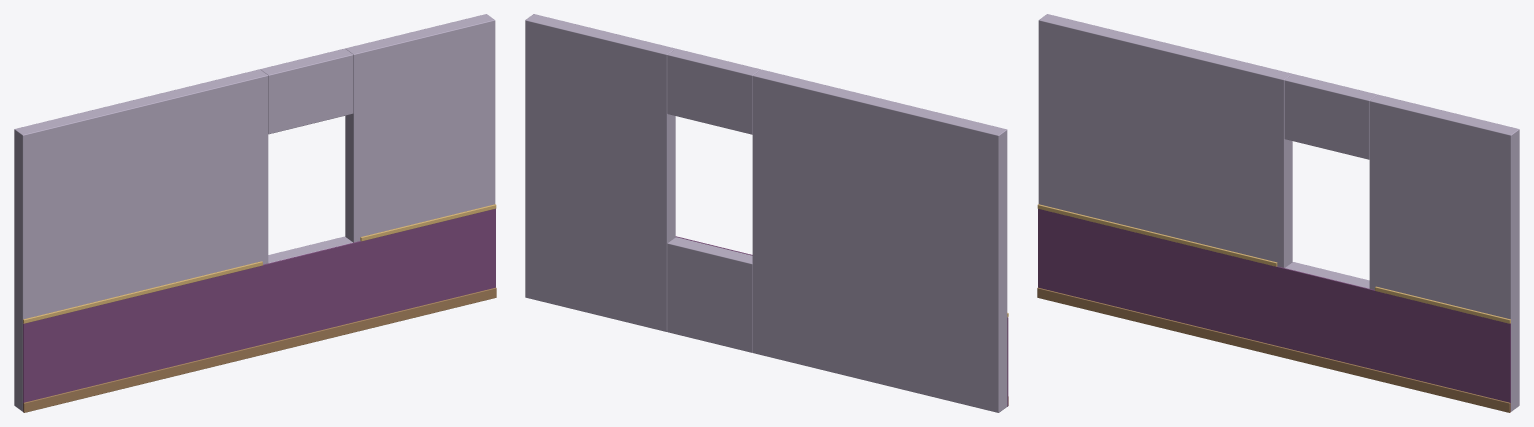
Rendered from Back_Wall.fbx.
The picture shows the model from 3 angles, left to right: view 1: azimuth 30°, elevation 25°; view 2: azimuth 150°, elevation 25°; view 3: azimuth 330°, elevation 25°; orthographic projection.
Visible parts, largest first — view 1: Back_Wall_Mesh; view 2: Back_Wall_Mesh; view 3: Back_Wall_Mesh.
Part boxes in pixels (<box>): Back_Wall_Mesh: <box>14,14,496,412</box>; Back_Wall_Mesh: <box>525,14,1008,412</box>; Back_Wall_Mesh: <box>1037,14,1519,412</box>.
Size of the model in its own units: 5 by 2.8 by 0.184.
